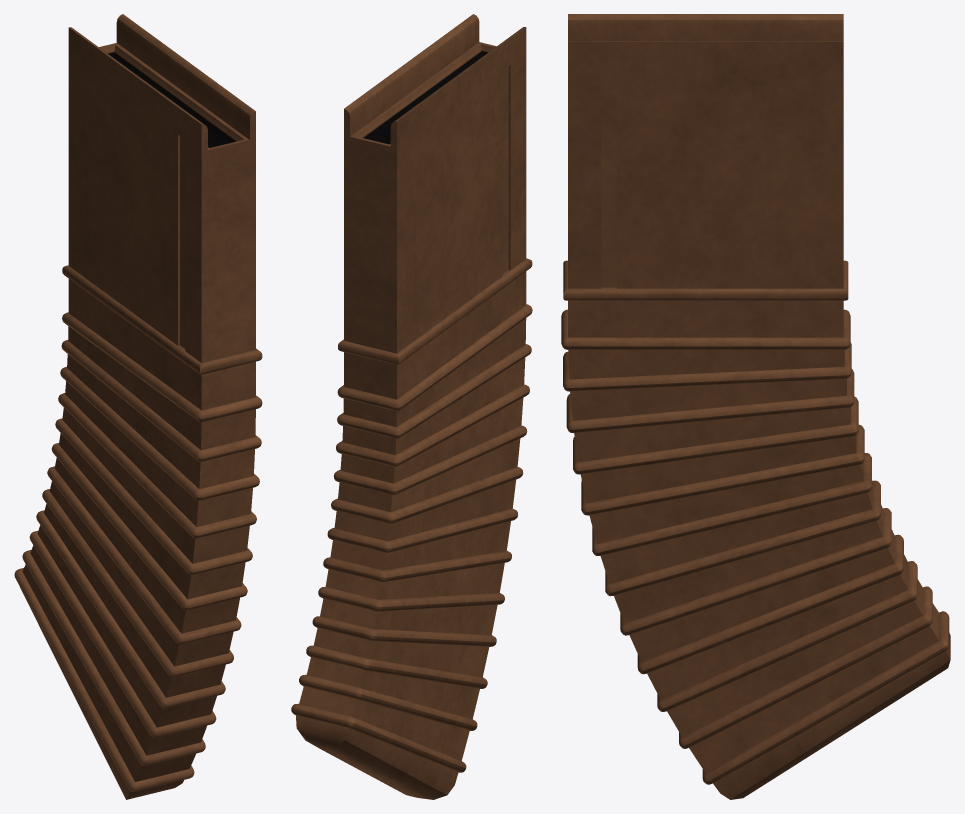
Rendered from hammer_mag.fbx.
3 views of the same model, side by side, from view 1: azimuth 30°, elevation 25°; view 2: azimuth 150°, elevation 25°; view 3: azimuth 270°, elevation 25° (orthographic). The views are drawn at different scales.
Visible parts, largest first — view 1: bake; view 2: bake; view 3: bake.
Boxes of the visible parts, box(x1,y1,x2,y2) form: bake: box(14, 14, 262, 799); bake: box(291, 14, 532, 799); bake: box(561, 14, 950, 799).
Bounding box in the file's own units: 14.47 × 155 × 71.65.
Materials: 1 (1 with a texture image).
